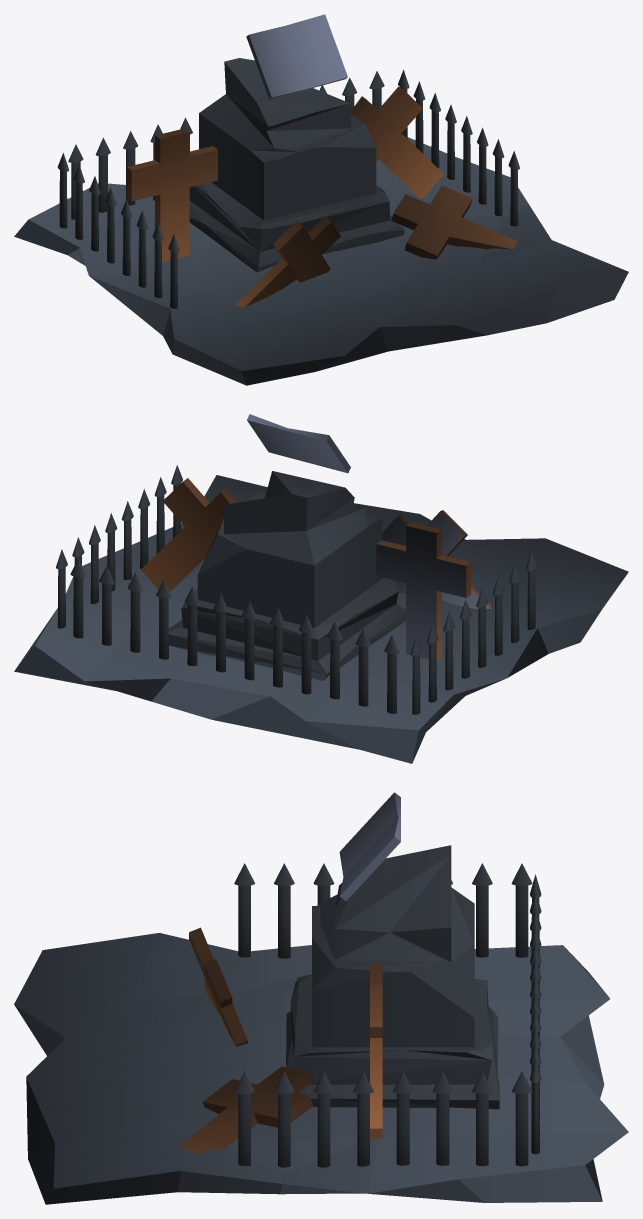
The model's file is Stone_altar.fbx.
The picture shows the model from 3 angles, top to bottom: view 1: azimuth 30°, elevation 25°; view 2: azimuth 150°, elevation 25°; view 3: azimuth 270°, elevation 25°; orthographic projection. The views are drawn at different scales.
Visible parts, largest first — view 1: Rock_floor; view 2: Rock_floor; view 3: Rock_floor.
Boxes of the visible parts, x1,y1,x2,y2 form: Rock_floor: (14, 14, 628, 385); Rock_floor: (14, 414, 628, 763); Rock_floor: (14, 792, 628, 1204).
Bounding box in the file's own units: 572 × 289 × 577.
Materials: 1 (1 with a texture image).
